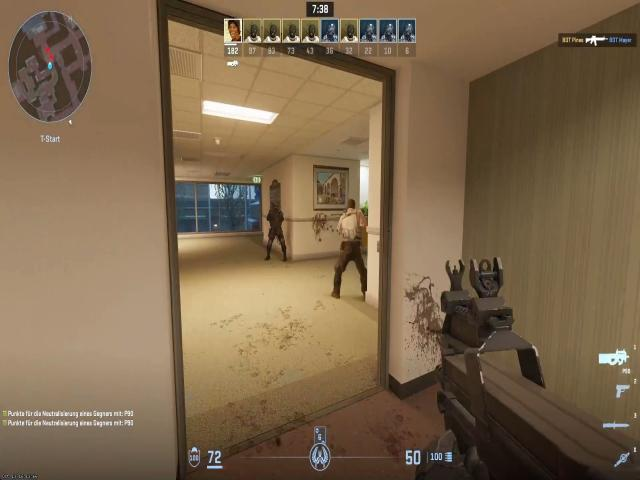CT: (268, 206, 284, 236)
CT-Head: (272, 202, 278, 215)
T: (334, 207, 367, 244)
